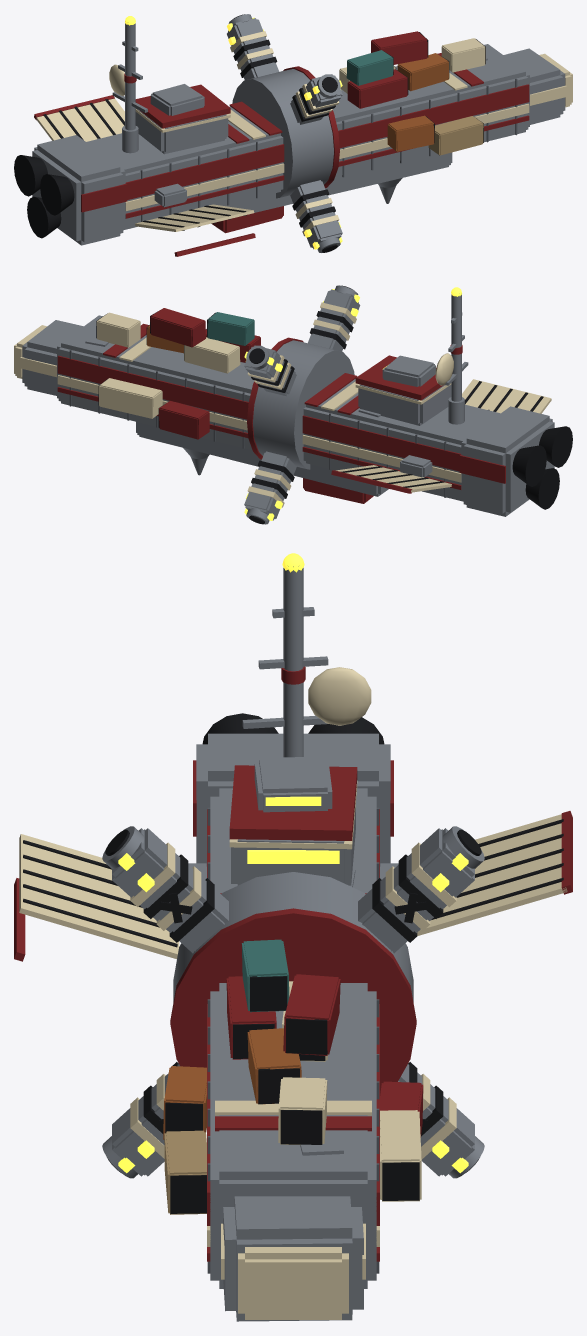
Rendered from syndicate_hold.glb.
The picture shows the model from 3 angles, top to bottom: view 1: azimuth 30°, elevation 25°; view 2: azimuth 150°, elevation 25°; view 3: azimuth 270°, elevation 25°; orthographic projection. The views are drawn at different scales.
Parts seen in each view (by area): view 1: syndicate_hold_gunmetal, syndicate_hold_oxblood, syndicate_hold_dirty_cream, syndicate_hold_hazard_black, syndicate_hold_container_rust, syndicate_hold_container_tan, syndicate_hold_container_teal, syndicate_hold_gunmetal_dark, syndicate_hold_amber_lamp; view 2: syndicate_hold_gunmetal, syndicate_hold_oxblood, syndicate_hold_dirty_cream, syndicate_hold_hazard_black, syndicate_hold_container_teal, syndicate_hold_gunmetal_dark, syndicate_hold_amber_lamp, syndicate_hold_container_rust; view 3: syndicate_hold_gunmetal, syndicate_hold_dirty_cream, syndicate_hold_oxblood, syndicate_hold_hazard_black, syndicate_hold_amber_lamp, syndicate_hold_container_rust, syndicate_hold_container_tan, syndicate_hold_container_teal, syndicate_hold_gunmetal_dark.
Part boxes in pixels (box(x1,y1,x2,y2)): syndicate_hold_gunmetal: box(32, 14, 565, 252); syndicate_hold_oxblood: box(34, 31, 529, 256); syndicate_hold_dirty_cream: box(36, 31, 572, 236); syndicate_hold_hazard_black: box(14, 14, 485, 252); syndicate_hold_container_rust: box(387, 53, 448, 151); syndicate_hold_container_tan: box(428, 116, 483, 155); syndicate_hold_container_teal: box(346, 50, 393, 85); syndicate_hold_gunmetal_dark: box(97, 78, 517, 221); syndicate_hold_amber_lamp: box(125, 16, 342, 249); syndicate_hold_gunmetal: box(22, 285, 554, 524); syndicate_hold_oxblood: box(57, 308, 505, 503); syndicate_hold_dirty_cream: box(14, 302, 551, 507); syndicate_hold_hazard_black: box(96, 285, 572, 524); syndicate_hold_container_teal: box(207, 312, 254, 345); syndicate_hold_gunmetal_dark: box(69, 350, 489, 497); syndicate_hold_amber_lamp: box(244, 287, 461, 520); syndicate_hold_container_rust: box(147, 325, 183, 353); syndicate_hold_gunmetal: box(102, 566, 484, 1321); syndicate_hold_dirty_cream: box(19, 667, 567, 1319); syndicate_hold_oxblood: box(14, 666, 572, 1261); syndicate_hold_hazard_black: box(23, 713, 563, 1213); syndicate_hold_amber_lamp: box(118, 553, 468, 1173); syndicate_hold_container_rust: box(163, 1028, 301, 1139); syndicate_hold_container_tan: box(164, 1130, 206, 1214); syndicate_hold_container_teal: box(241, 939, 289, 1012); syndicate_hold_gunmetal_dark: box(207, 807, 379, 1273).
Size of the model in its own units: 254 by 116 by 121.
